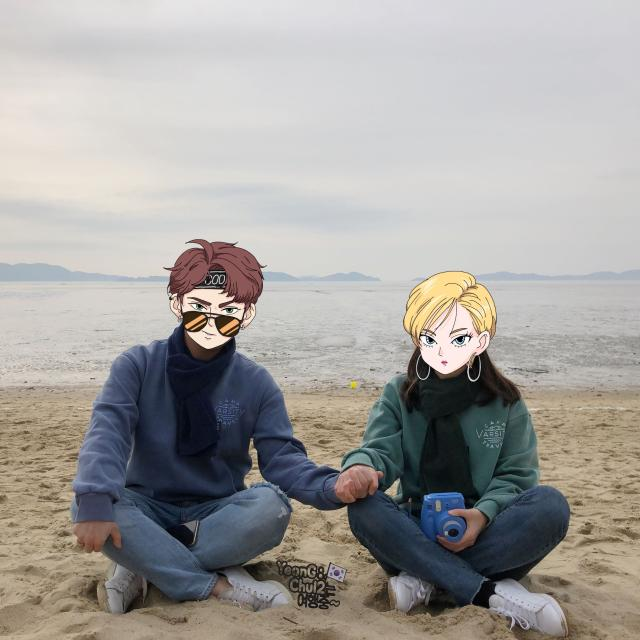denimpants: (343, 485, 567, 612), (98, 488, 292, 614)
mtm: (75, 336, 349, 522), (339, 363, 542, 524)
